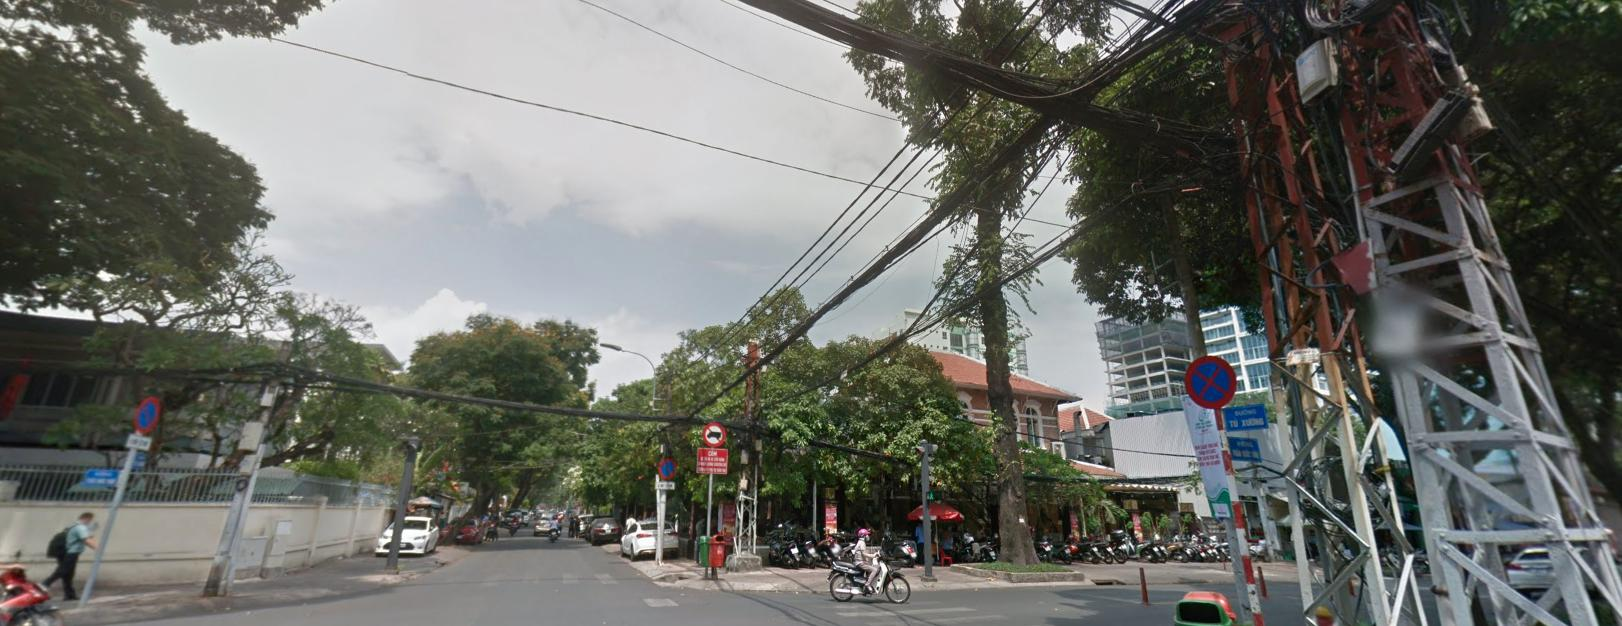Cam con lai: (702, 421, 725, 444)
Cam dung va do: (1184, 354, 1236, 406), (134, 396, 160, 433), (659, 457, 675, 476)
